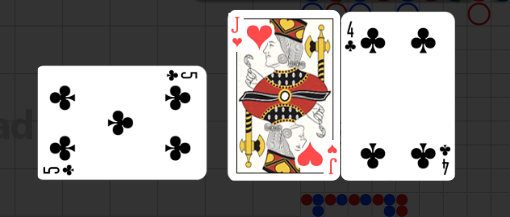4C: (344, 20, 358, 54)
5C: (42, 162, 77, 176), (164, 68, 199, 82)
